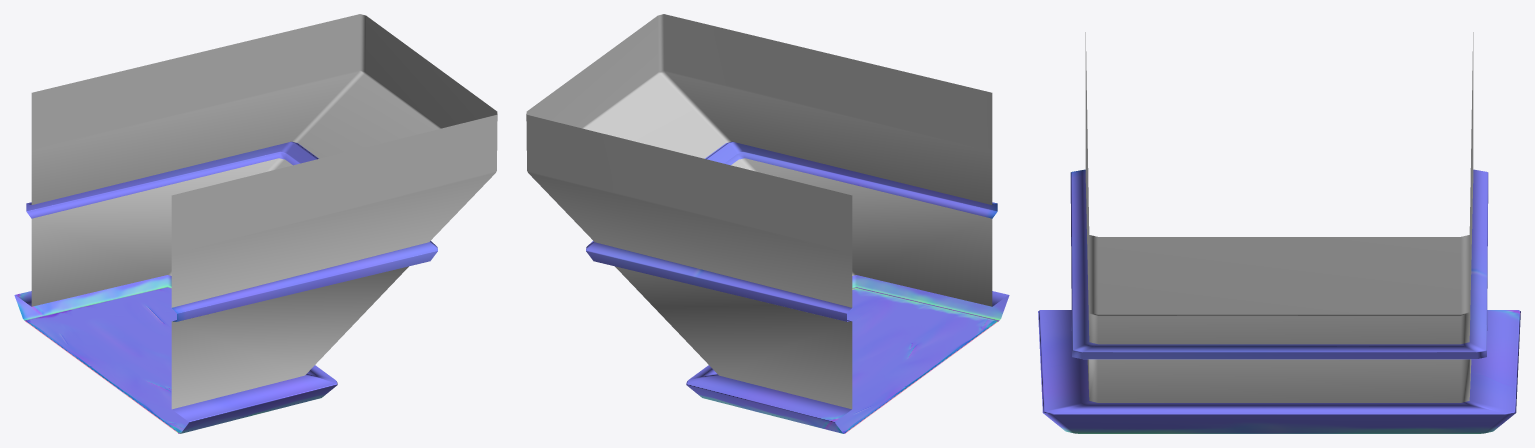
File: PillarTop.fbx
The picture shows the model from 3 angles, left to right: view 1: azimuth 30°, elevation 25°; view 2: azimuth 150°, elevation 25°; view 3: azimuth 270°, elevation 25°; orthographic projection. The views are drawn at different scales.
Parts seen in each view (by area): view 1: PillarTop_FlatCeiling; view 2: PillarTop_FlatCeiling; view 3: PillarTop_FlatCeiling.
Part boxes in pixels (x1,y1,x2,y2): PillarTop_FlatCeiling: (14, 14, 497, 433); PillarTop_FlatCeiling: (526, 14, 1009, 433); PillarTop_FlatCeiling: (1038, 32, 1520, 433).
Bounding box in the file's own units: 11.91 × 8.04 × 10.9.
